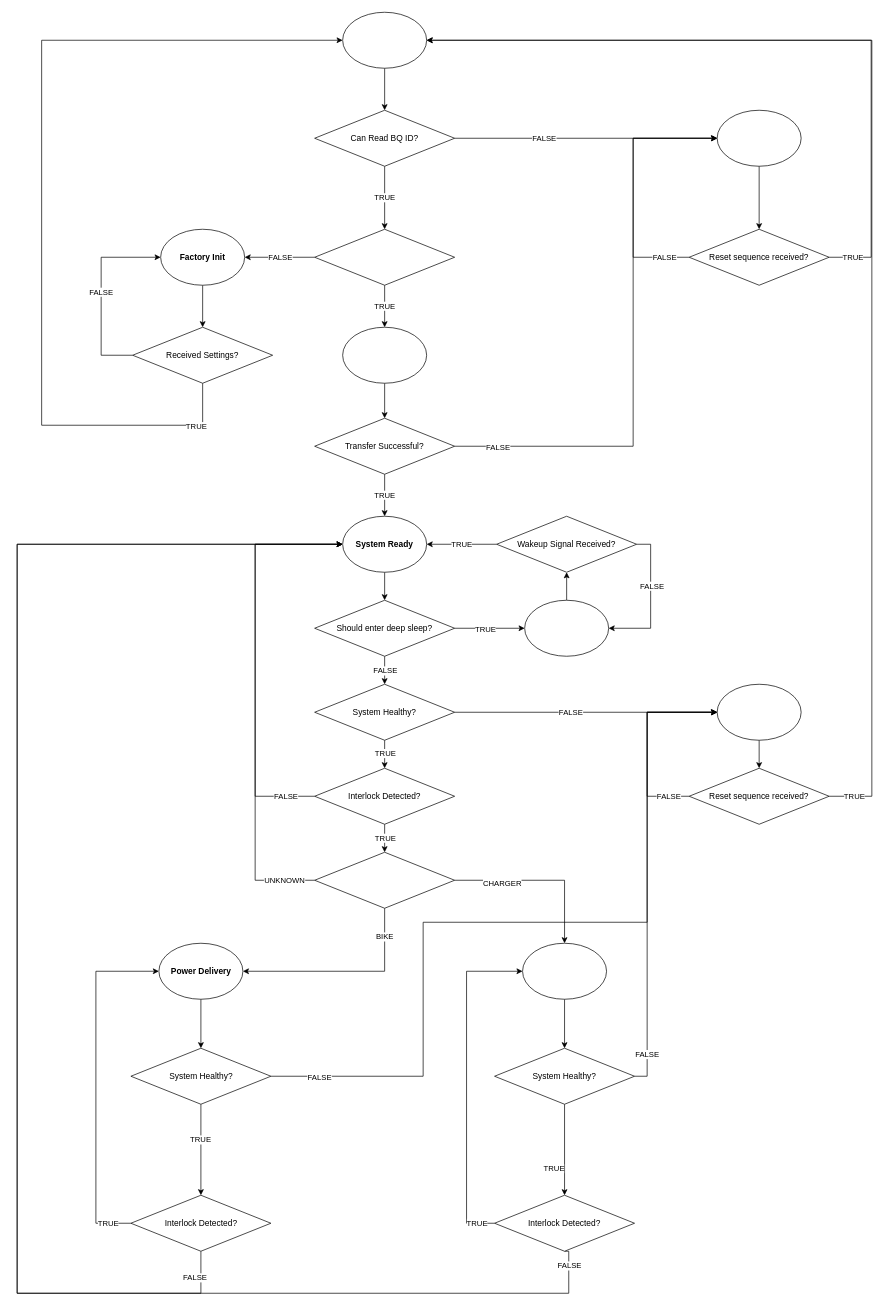
This 890x1311 diagram has some shape labels left out. Here are the shapes that lost their labels. From the top down, the centre of each, then its label:
point 384,40: Start
point 758,138: Initialization ERROR
point 384,257: Has BQ Settings?
point 384,355: Transfer Settings
point 566,628: Deep Sleep
point 758,712: Unsafe Conditions ERROR
point 384,880: Where is the pack?
point 564,971: Charging
